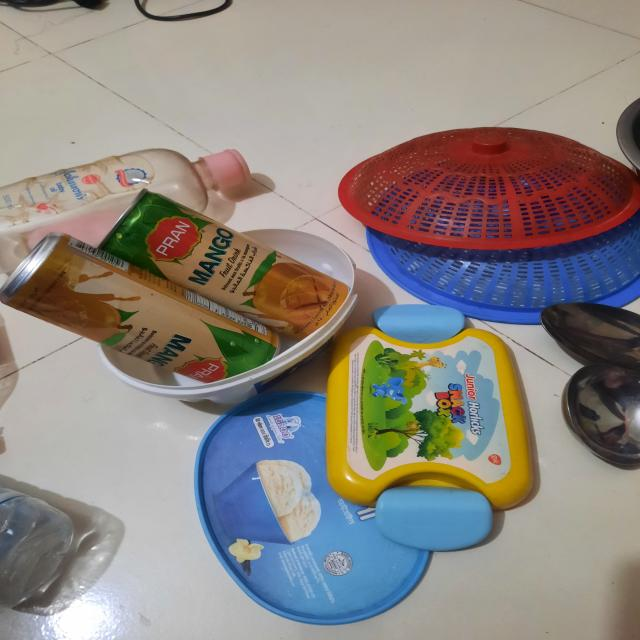Metal: (559, 286, 640, 504)
Plastics: (204, 351, 580, 609), (343, 112, 640, 318)
can: (6, 195, 359, 366)
